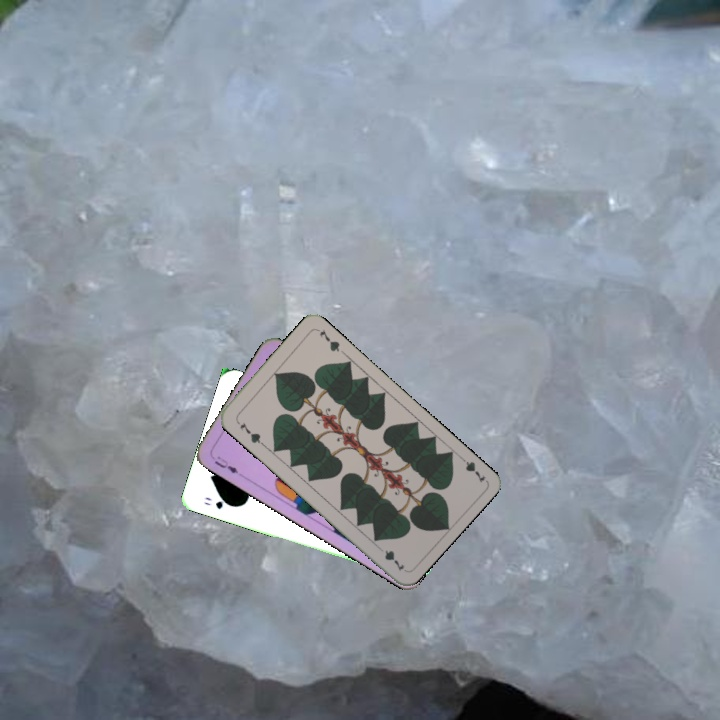EU: (210, 452, 241, 476)
G7: (455, 451, 488, 485), (236, 418, 266, 447)
GO: (200, 493, 236, 512)
